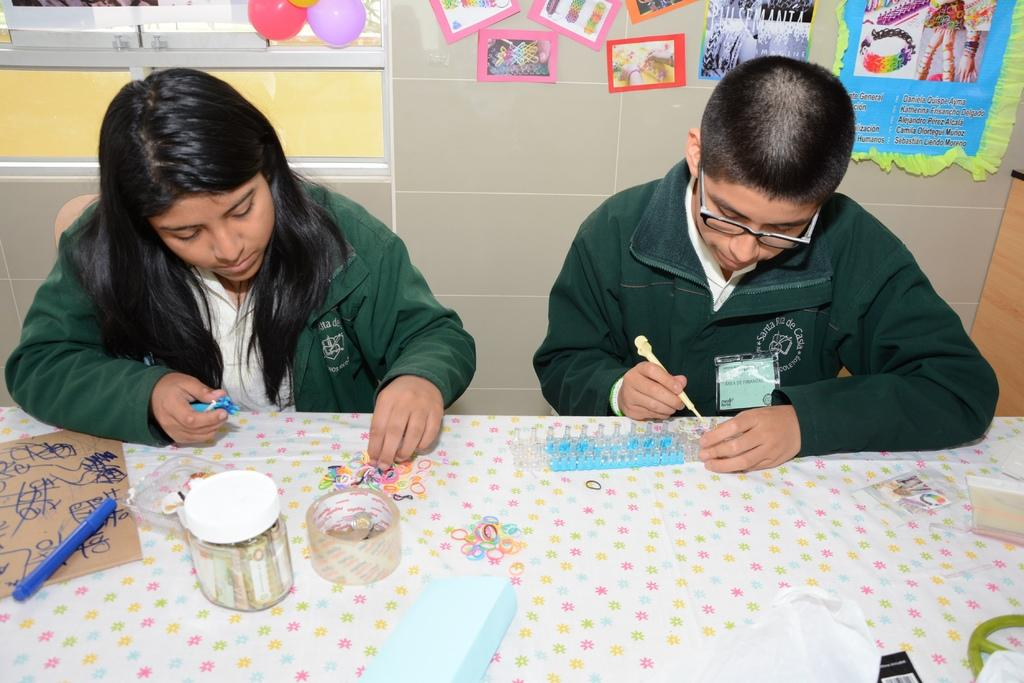pen: (11, 496, 116, 600)
